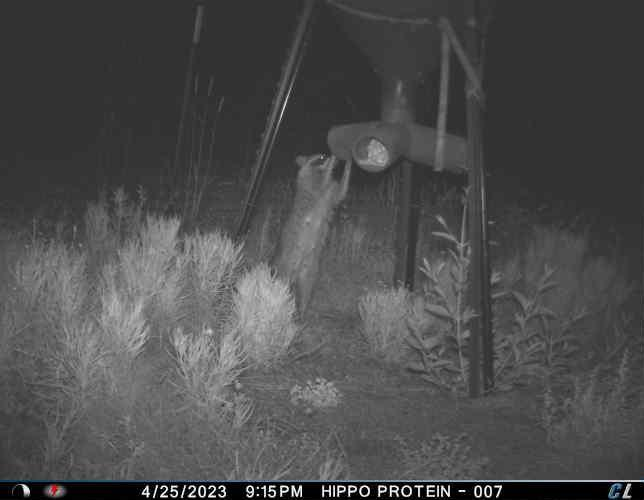Raccoon: (270, 151, 356, 324)
